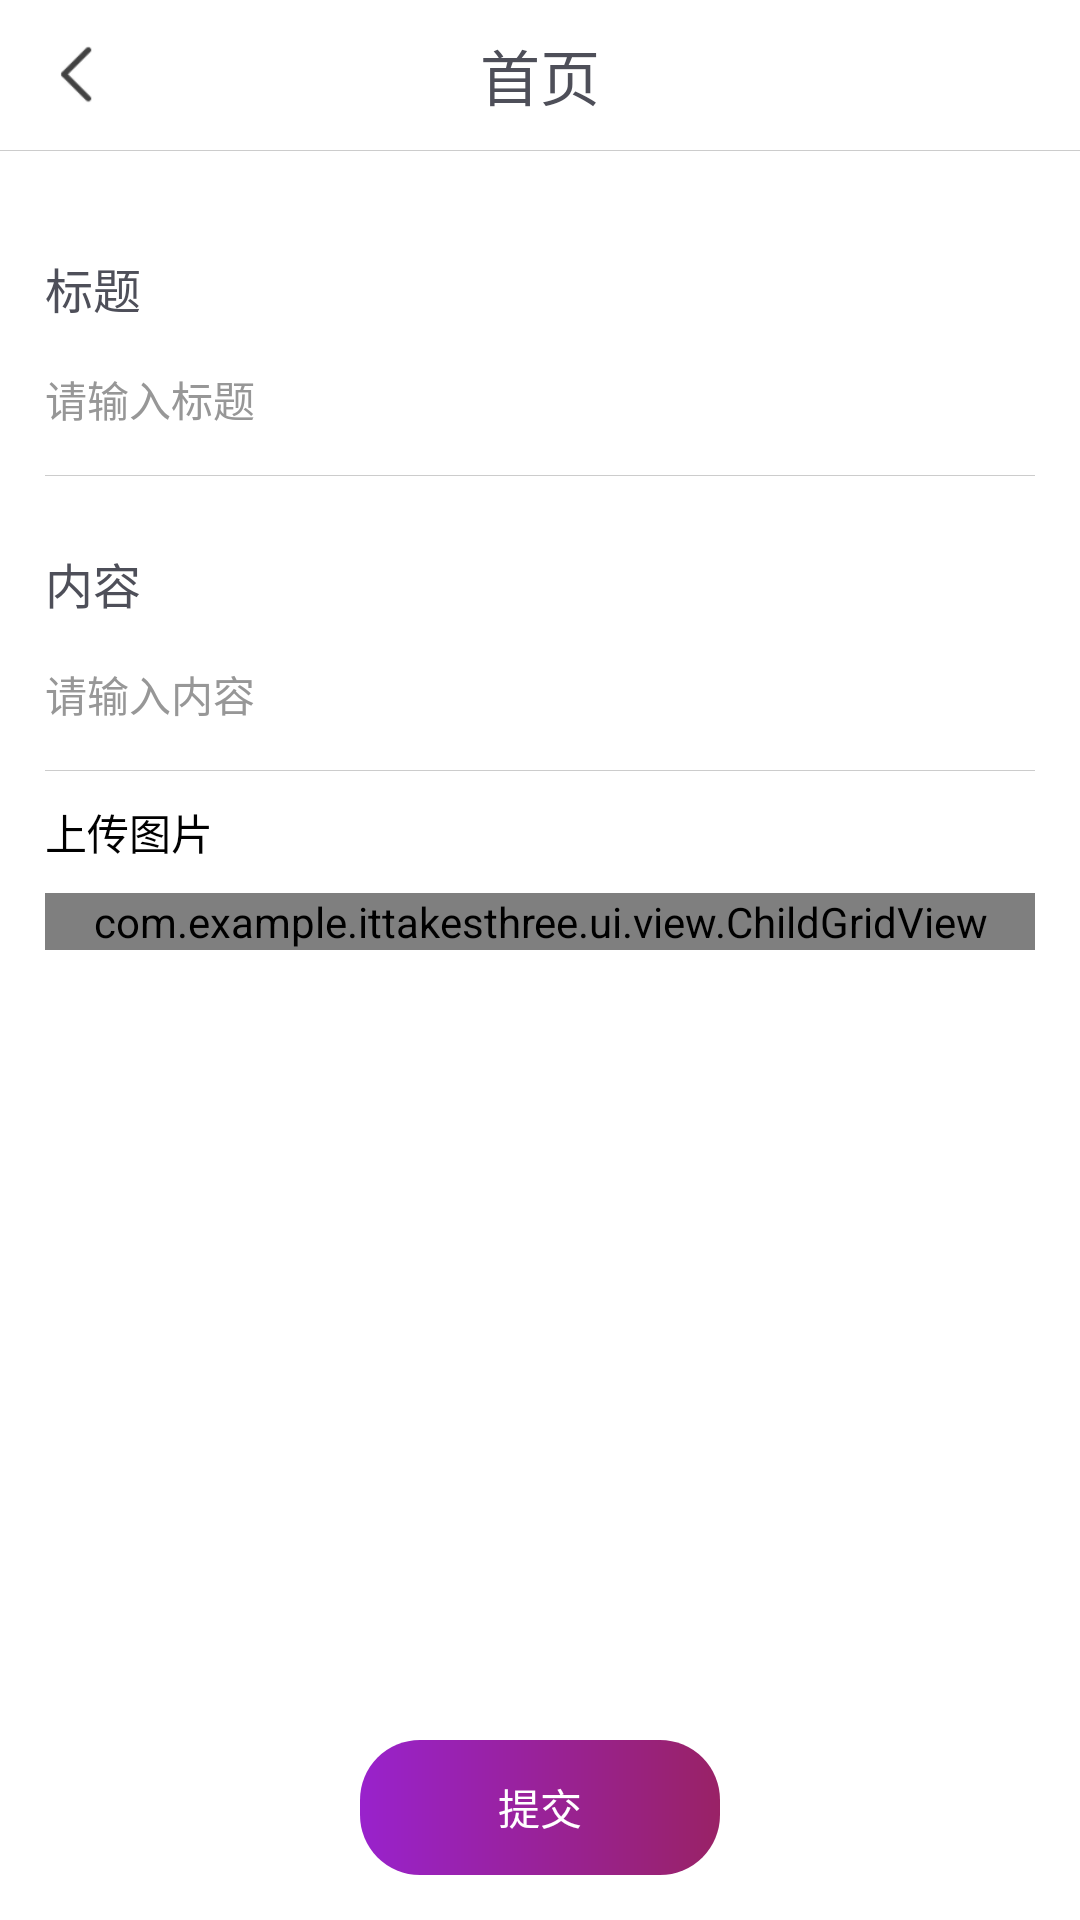

Point at icon controls on the screen. Image size 1080 x 1920, points as (x,y).
return: (76,74)
